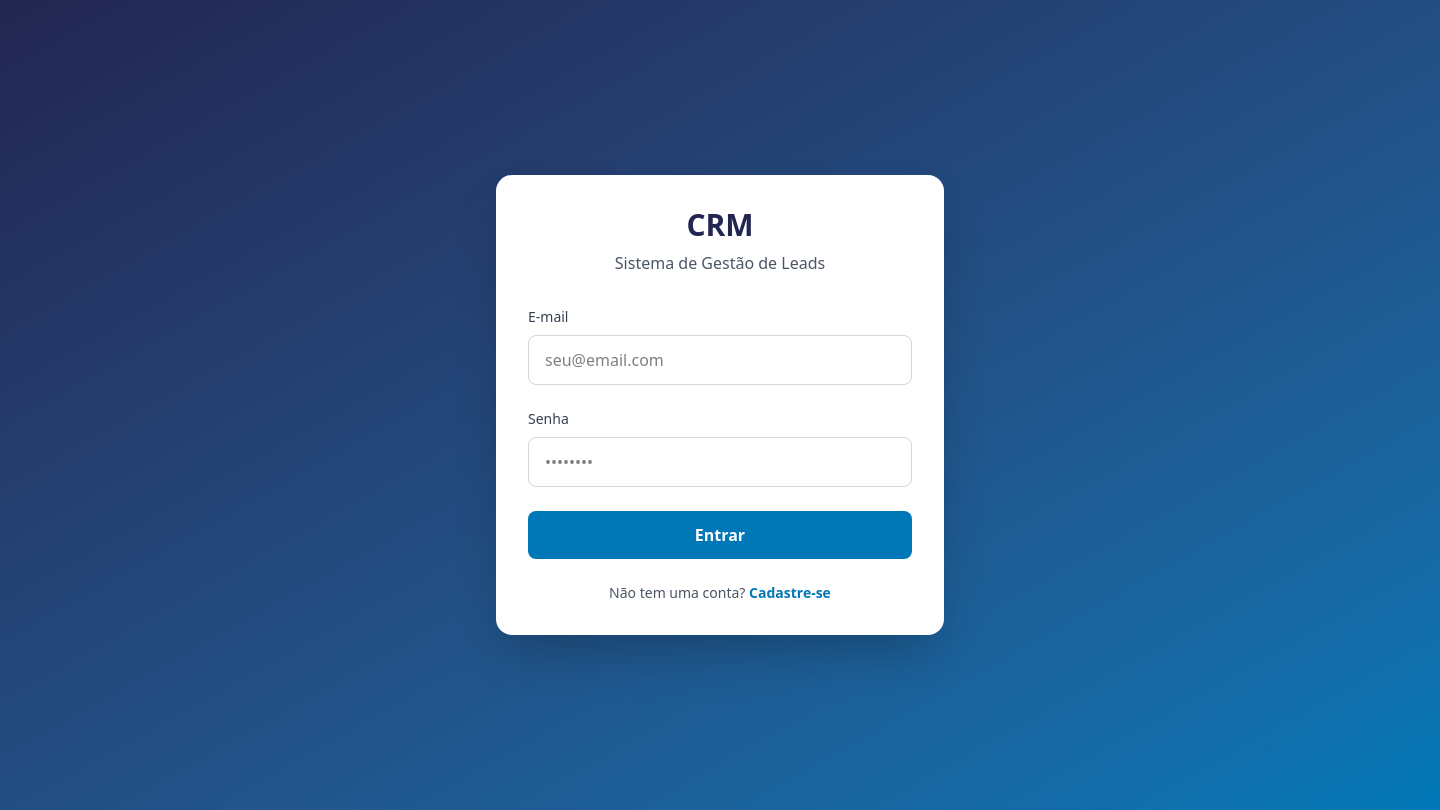
Test: Login Page › displays error message on login failure
The image size is (1440, 810).
Type "test@test.com" into the field labelled "E-mail". click: (720, 360)
box: [528,335,912,385]
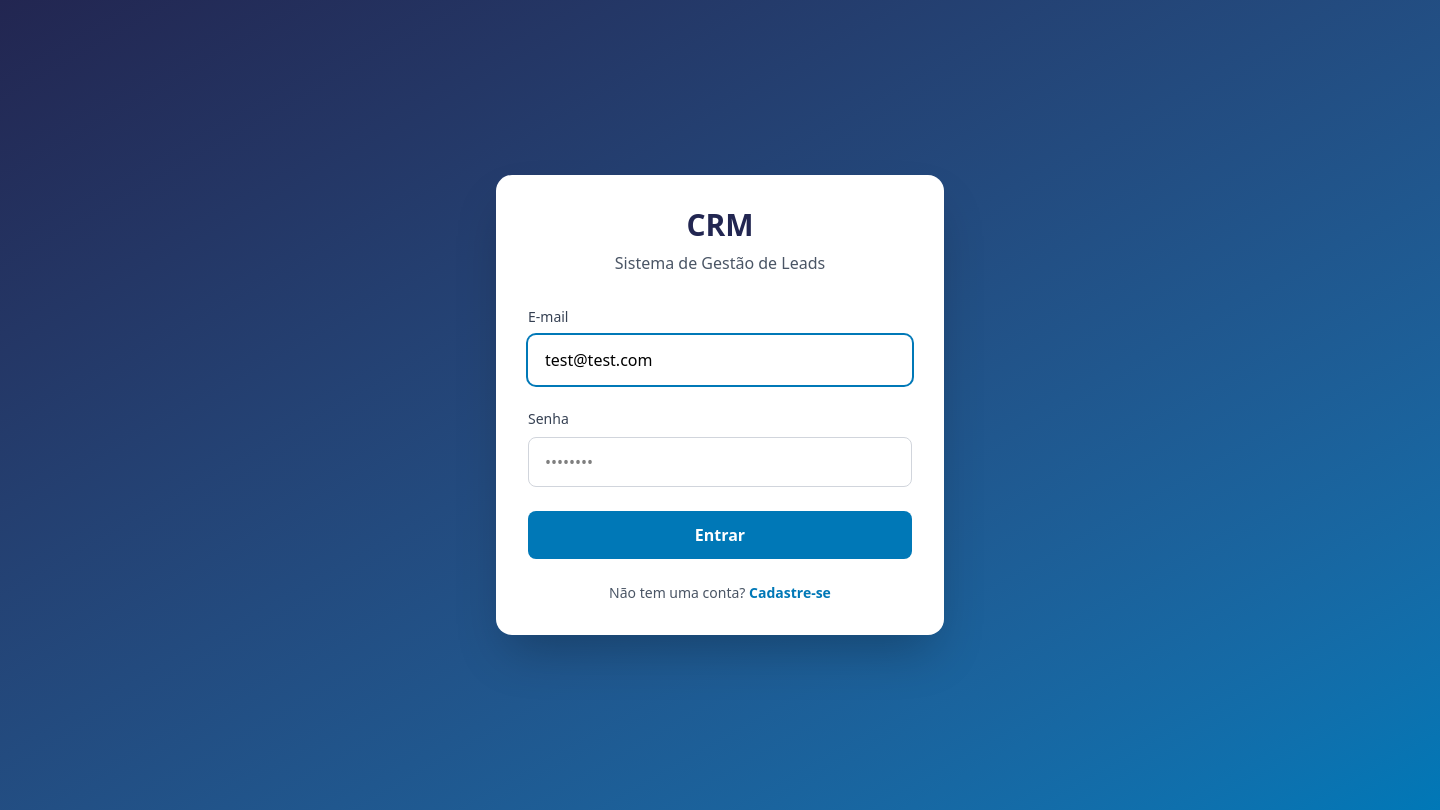
Type "password" into the password field labelled "Senha". click: (720, 462)
box: [528,437,912,487]
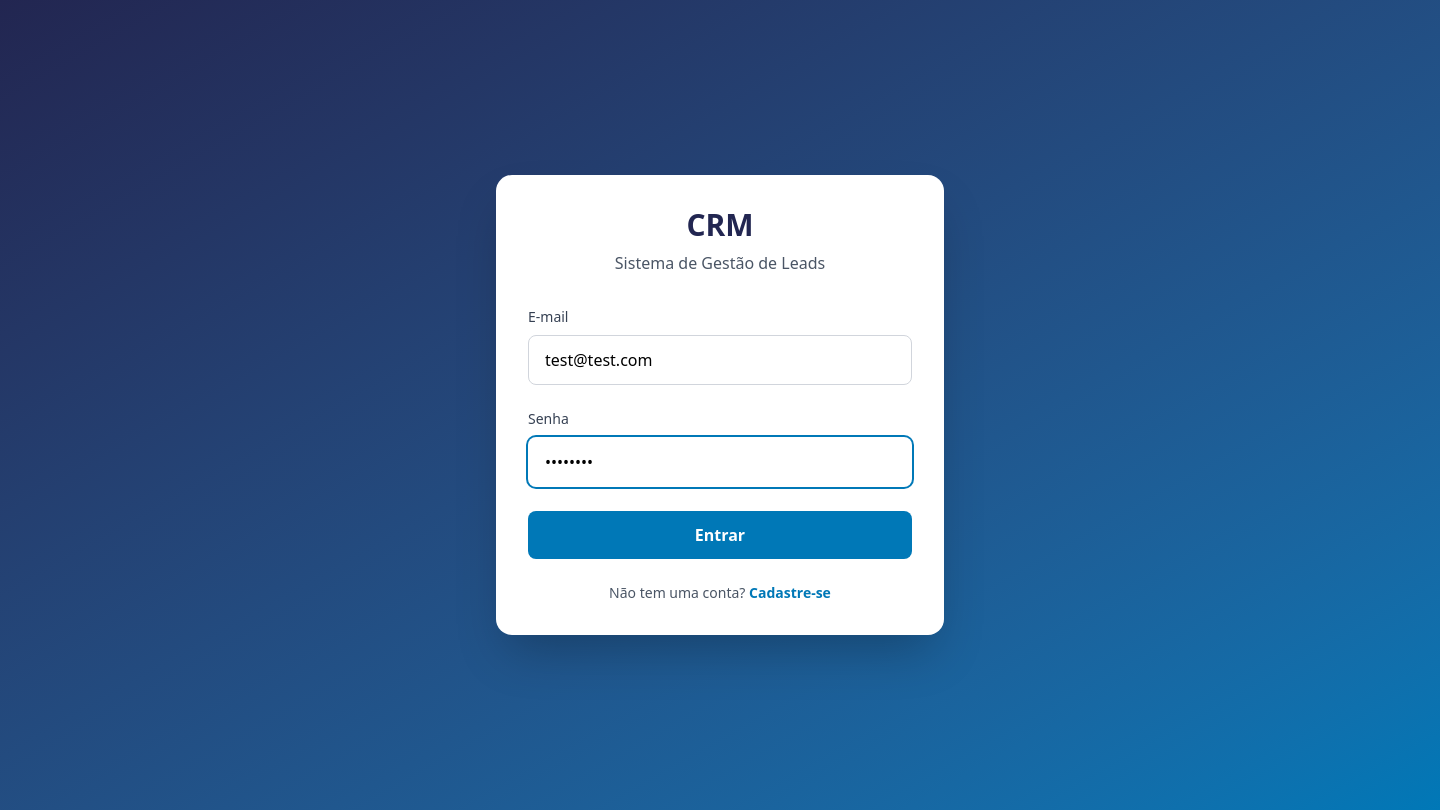
Click the button "Entrar". click: (720, 535)
box: [528,511,912,559]
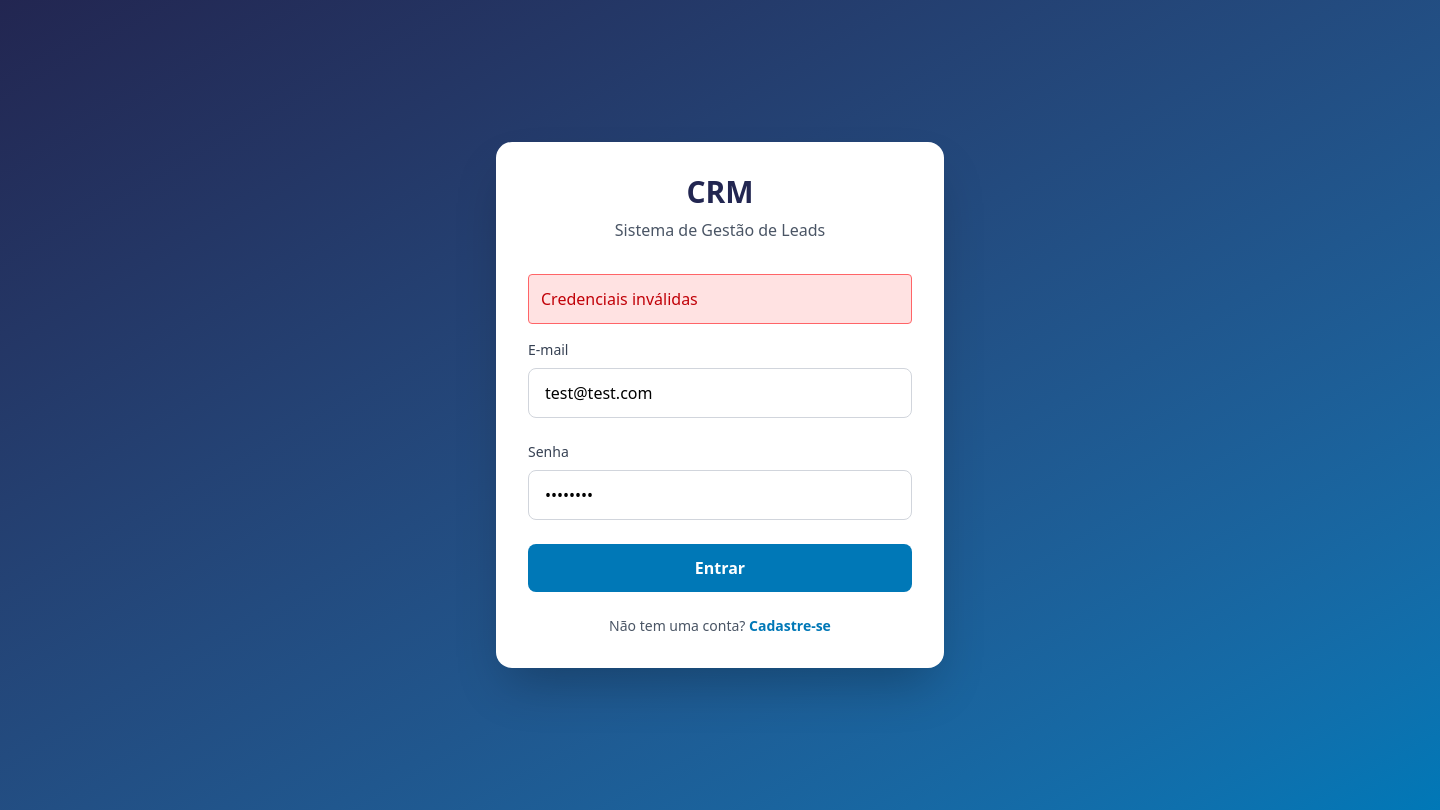
Expected: the text "Credenciais inválidas" is shown, [528,274,912,324]
